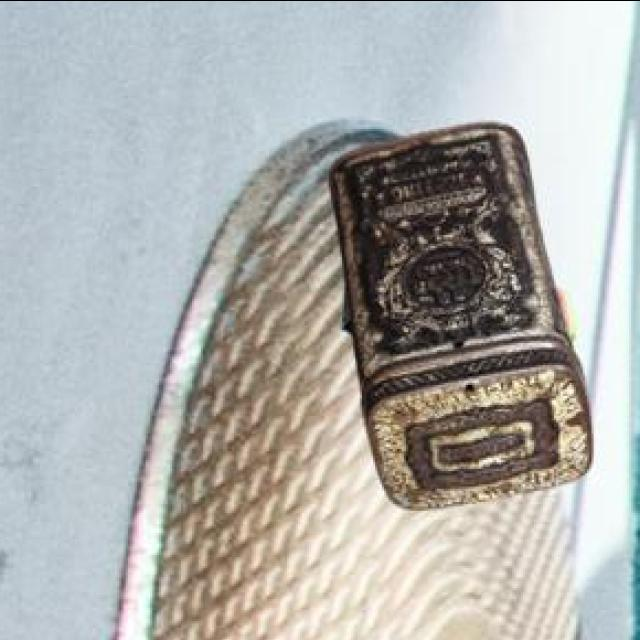logam: (332, 125, 595, 511), (345, 288, 579, 345)
